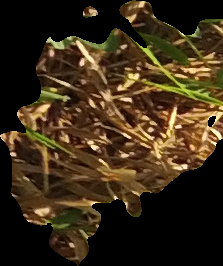soil: (1, 1, 222, 264)
